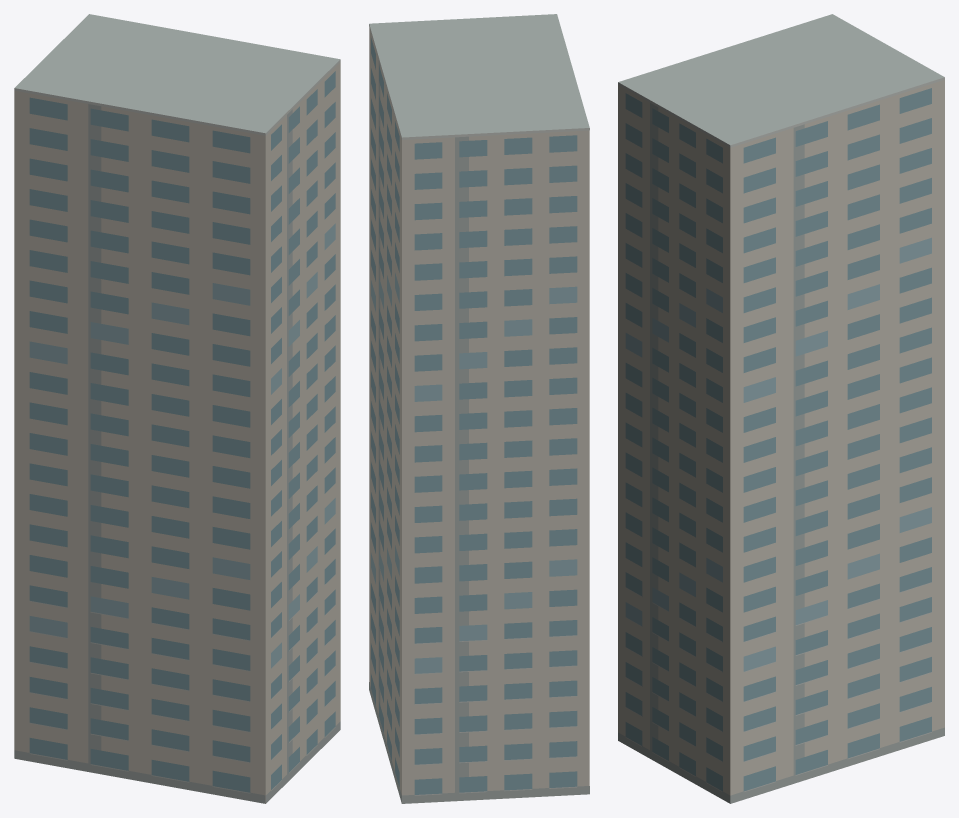
The model's file is residential-e76b7002-7bc7-4161-8f83-f24584222ce3.glb.
3 renders of one model, left to right at view 1: azimuth 30°, elevation 25°; view 2: azimuth 150°, elevation 25°; view 3: azimuth 270°, elevation 25°, orthographic.
Parts seen in each view (by area): view 1: residential-e76b7002-7bc7-4161-8f83-f24584222ce3.tmp; view 2: residential-e76b7002-7bc7-4161-8f83-f24584222ce3.tmp; view 3: residential-e76b7002-7bc7-4161-8f83-f24584222ce3.tmp.
Boxes of the visible parts, x1,y1,x2,y2 form: residential-e76b7002-7bc7-4161-8f83-f24584222ce3.tmp: (14,14,340,803); residential-e76b7002-7bc7-4161-8f83-f24584222ce3.tmp: (369,14,589,803); residential-e76b7002-7bc7-4161-8f83-f24584222ce3.tmp: (618,14,944,803).
Size of the model in its own units: 26.95 by 63 by 28.34.
